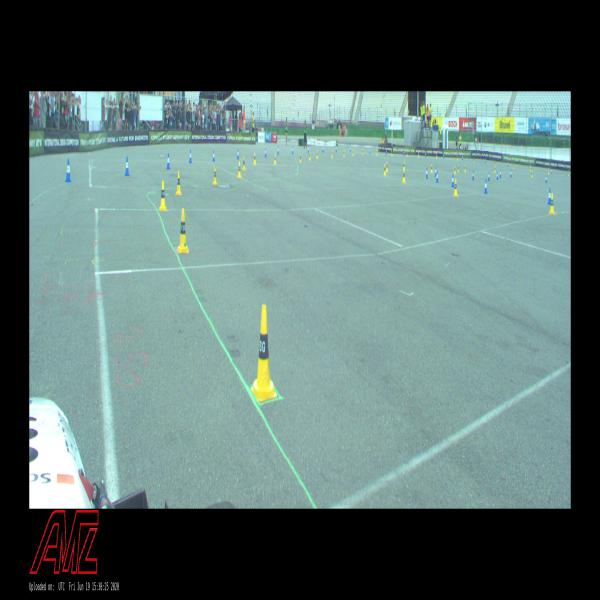blue_cone: (65, 158, 71, 182), (125, 157, 129, 176), (547, 189, 551, 204), (167, 153, 170, 169), (484, 179, 487, 194), (189, 150, 192, 163), (452, 174, 454, 187), (213, 150, 215, 161), (436, 171, 438, 182), (426, 168, 428, 178), (237, 149, 239, 159), (488, 172, 490, 181), (435, 167, 437, 176), (472, 171, 474, 179), (545, 174, 547, 182), (292, 146, 294, 153), (510, 170, 512, 177), (322, 146, 324, 152), (369, 148, 371, 154), (484, 158, 486, 163), (265, 148, 266, 157), (278, 146, 279, 155), (500, 170, 501, 178), (497, 172, 498, 179), (308, 146, 309, 153), (350, 146, 351, 152), (336, 146, 337, 152), (462, 154, 463, 160), (551, 168, 552, 173), (507, 161, 508, 166), (425, 152, 426, 157), (570, 171, 571, 176), (404, 151, 404, 156)
yellow_cone: (251, 306, 277, 401), (177, 209, 189, 252), (160, 181, 166, 210), (176, 171, 182, 194), (550, 194, 554, 214), (213, 166, 217, 184), (454, 179, 458, 196), (242, 157, 246, 170), (238, 162, 241, 177), (402, 168, 405, 182), (384, 164, 386, 176), (254, 153, 256, 164), (274, 154, 276, 164), (386, 162, 388, 172), (403, 161, 405, 170), (316, 150, 318, 158), (331, 150, 333, 157), (464, 165, 466, 172), (352, 149, 354, 156), (343, 150, 345, 157), (494, 166, 496, 172), (531, 171, 533, 177), (376, 150, 378, 156), (436, 153, 438, 158), (309, 151, 310, 160), (431, 164, 432, 172), (300, 154, 301, 162), (406, 152, 408, 156), (568, 171, 570, 175), (458, 165, 459, 172), (454, 166, 455, 173), (362, 148, 363, 154), (548, 168, 549, 173), (530, 166, 531, 171), (513, 164, 514, 169), (494, 161, 495, 166), (418, 152, 419, 156), (474, 158, 475, 162), (392, 150, 392, 156), (457, 156, 457, 160)
